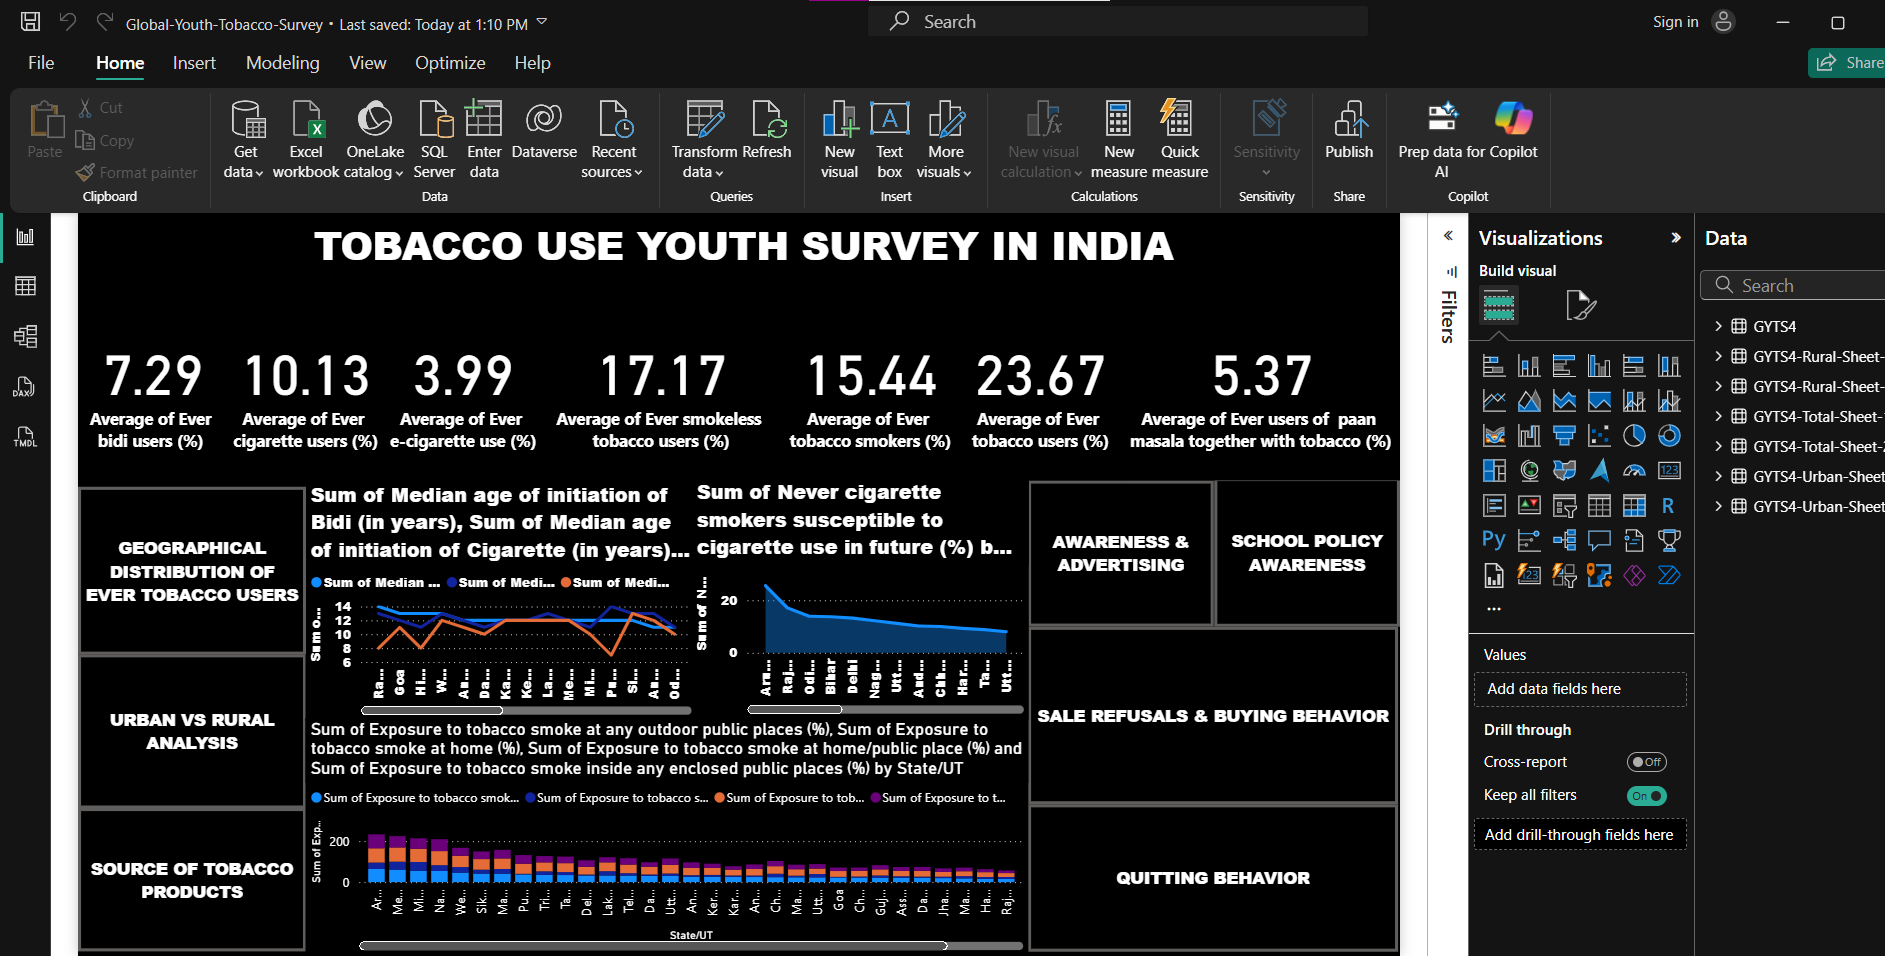

This screenshot's page, from the dashboard's own definition file:
{"tool":"powerbi","page":{"name":"Page 1","canvas":[1280,720],"ordinal":0},"visuals":[{"type":"textbox","box":[9.7,0,1269.8,62.9],"z":0},{"type":"actionButton","box":[0,427.2,220.9,149.5],"z":1000},{"type":"actionButton","box":[0,576.6,220.9,138.9],"z":2000},{"type":"actionButton","box":[920.5,400.7,358.4,171.9],"z":3000},{"type":"actionButton","box":[920.5,572.7,358.4,142.8],"z":4000},{"type":"actionButton","box":[920.5,259.2,179.9,141.5],"z":5000},{"type":"actionButton","box":[1100.4,256.6,179.9,144.2],"z":6000},{"type":"lineChart","fields":{"Category":["GYTS4-Total-Sheet-1.State/UT"],"Y":["Sum(GYTS4-Total-Sheet-1.Median age of initiation of Bidi (in years))","Sum(GYTS4-Total-Sheet-1.Median age of initiation of Cigarette (in years))","Sum(GYTS4-Total-Sheet-1.Median age of initiation of smokeless tobacco (in years))"]},"box":[220.7,258.9,379.1,232],"z":7000},{"type":"areaChart","fields":{"Y":["Sum(GYTS4-Total-Sheet-1.Never cigarette smokers susceptible to cigarette use in future (%))"],"Category":["GYTS4-Total-Sheet-1.State/UT"]},"box":[594.2,256.1,326.8,233.4],"z":8000},{"type":"card","fields":{"Values":["Avg(GYTS4-Total-Sheet-1.Ever bidi users (%) )"]},"box":[0,63.5,145.5,195.7],"z":9000},{"type":"card","fields":{"Values":["Avg(GYTS4-Total-Sheet-1.Ever cigarette users (%))"]},"box":[145.5,63.5,150.8,195.7],"z":10000},{"type":"card","fields":{"Values":["Avg(GYTS4-Total-Sheet-1.Ever e-cigarette use (%))"]},"box":[296.3,63.5,153.4,195.7],"z":11000},{"type":"card","fields":{"Values":["Avg(GYTS4-Total-Sheet-1.Ever smokeless tobacco users (%))"]},"box":[449.7,63.5,231.5,195.7],"z":12000},{"type":"card","fields":{"Values":["Avg(GYTS4-Total-Sheet-1.Ever tobacco smokers (%))"]},"box":[681.1,63.5,171.9,195.7],"z":13000},{"type":"card","fields":{"Values":["Avg(GYTS4-Total-Sheet-1.Ever tobacco users (%))"]},"box":[853.1,63.5,157.4,195.7],"z":14000},{"type":"card","fields":{"Values":["Avg(GYTS4-Total-Sheet-1.Ever users of  paan masala together with tobacco (%))"]},"box":[1010.5,63.5,269.8,195.7],"z":15000},{"type":"actionButton","box":[0,264.5,220.9,162.7],"z":16000},{"type":"columnChart","fields":{"Category":["GYTS4-Total-Sheet-1.State/UT"],"Y":["Sum(GYTS4-Total-Sheet-1.Exposure to tobacco smoke at any outdoor public places  (%))","Sum(GYTS4-Total-Sheet-1.Exposure to tobacco smoke at home   (%))","Sum(GYTS4-Total-Sheet-1.Exposure to tobacco smoke at home/public place (%))","Sum(GYTS4-Total-Sheet-1.Exposure to tobacco smoke inside any enclosed public  places  (%))"]},"box":[220.9,489.6,700.2,230],"z":17000}]}

Visuals, with their boxes on the page's 1280x720 design canvas (x1, y1, x2, y2). These are canvas units, not pixel positions in the 1885x956 screenshot, which may show the page scaled, cropped or inside an application window:
textbox: [10, 0, 1280, 63]
actionButton: [0, 427, 221, 577]
actionButton: [0, 577, 221, 716]
actionButton: [920, 401, 1279, 573]
actionButton: [920, 573, 1279, 716]
actionButton: [920, 259, 1100, 401]
actionButton: [1100, 257, 1280, 401]
lineChart - GYTS4-Total-Sheet-1.State/UT x Sum(GYTS4-Total-Sheet-1.Median age of initiation of Bidi (in years)): [221, 259, 600, 491]
areaChart - Sum(GYTS4-Total-Sheet-1.Never cigarette smokers susceptible to cigarette use in future (%)) x GYTS4-Total-Sheet-1.State/UT: [594, 256, 921, 490]
card - Avg(GYTS4-Total-Sheet-1.Ever bidi users (%) ): [0, 64, 146, 259]
card - Avg(GYTS4-Total-Sheet-1.Ever cigarette users (%)): [146, 64, 296, 259]
card - Avg(GYTS4-Total-Sheet-1.Ever e-cigarette use (%)): [296, 64, 450, 259]
card - Avg(GYTS4-Total-Sheet-1.Ever smokeless tobacco users (%)): [450, 64, 681, 259]
card - Avg(GYTS4-Total-Sheet-1.Ever tobacco smokers (%)): [681, 64, 853, 259]
card - Avg(GYTS4-Total-Sheet-1.Ever tobacco users (%)): [853, 64, 1010, 259]
card - Avg(GYTS4-Total-Sheet-1.Ever users of  paan masala together with tobacco (%)): [1010, 64, 1280, 259]
actionButton: [0, 264, 221, 427]
columnChart - GYTS4-Total-Sheet-1.State/UT x Sum(GYTS4-Total-Sheet-1.Exposure to tobacco smoke at any outdoor public places  (%)): [221, 490, 921, 720]
